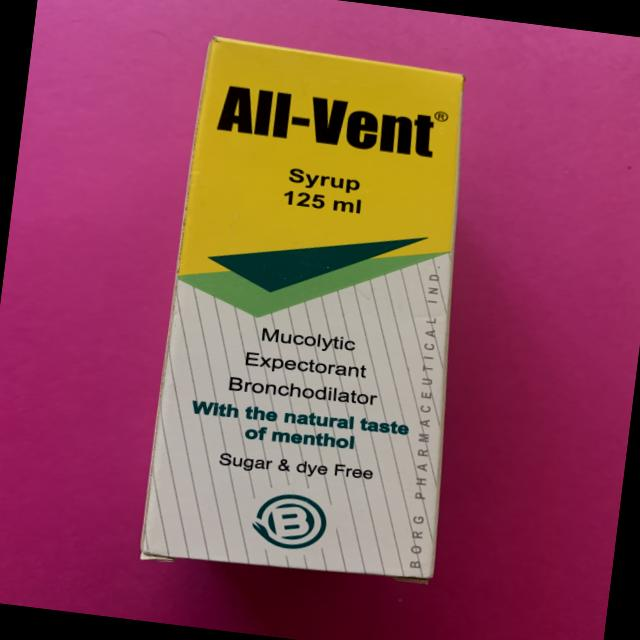medicine_packaging: (118, 19, 536, 622)
